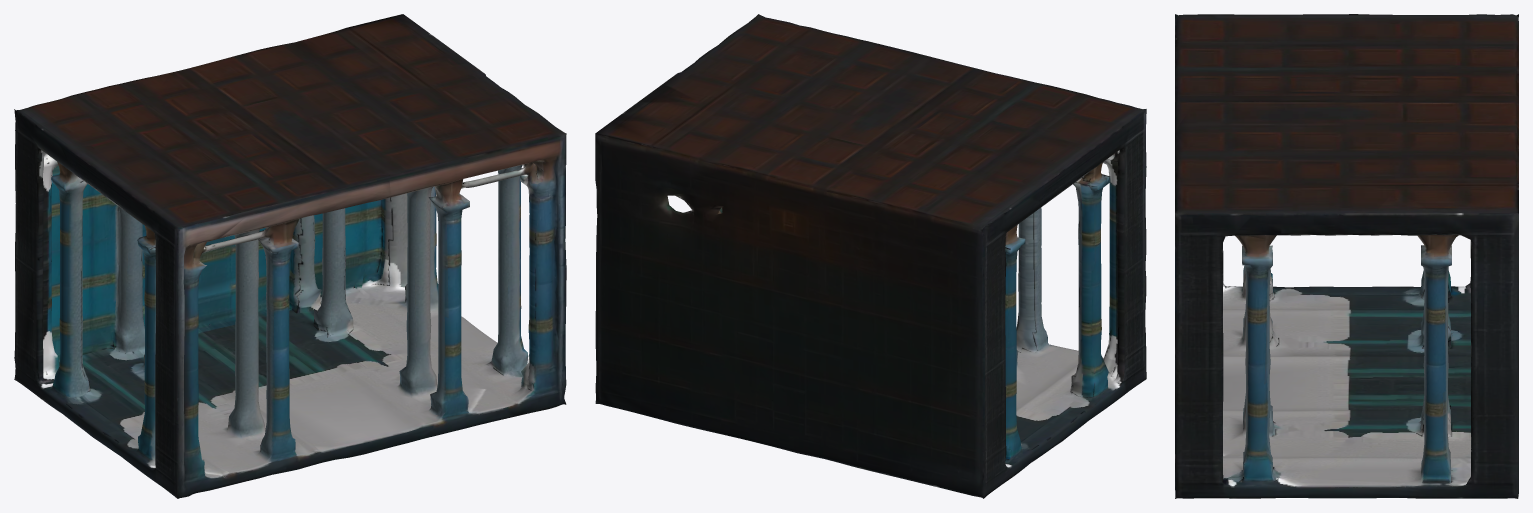
The model's file is world.glb.
The picture shows the model from 3 angles, left to right: view 1: azimuth 30°, elevation 25°; view 2: azimuth 150°, elevation 25°; view 3: azimuth 270°, elevation 25°; orthographic projection. The views are drawn at different scales.
Parts seen in each view (by area): view 1: model; view 2: model; view 3: model.
Part boxes in pixels (x1,y1,x2,y2): model: (14, 14, 566, 498); model: (595, 14, 1146, 498); model: (1175, 14, 1518, 498).
Size of the model in its own units: 1.9 by 1.27 by 1.38.
Materials: 1 (1 with a texture image).
